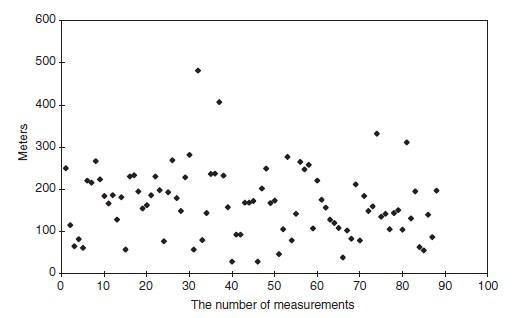axis: (57, 267, 492, 279), (57, 15, 65, 279)
point: (192, 66, 206, 77), (401, 137, 414, 148), (214, 98, 225, 109), (372, 129, 384, 139), (184, 150, 195, 160), (282, 152, 293, 162), (95, 173, 105, 183), (117, 193, 127, 203), (291, 209, 301, 219), (398, 225, 408, 235), (432, 186, 442, 196), (168, 155, 178, 165), (410, 188, 421, 197), (132, 188, 144, 196), (62, 163, 71, 173), (65, 220, 74, 230), (74, 235, 84, 244), (70, 242, 79, 252), (112, 215, 122, 224), (159, 237, 169, 246), (202, 208, 211, 218), (224, 203, 233, 213), (317, 195, 327, 204), (345, 234, 355, 243), (338, 254, 348, 263), (423, 211, 433, 220), (91, 157, 100, 166), (104, 199, 113, 208), (151, 172, 160, 181), (121, 245, 130, 254), (189, 245, 198, 254), (228, 257, 237, 266), (325, 215, 334, 224), (351, 180, 360, 189), (381, 209, 390, 218), (220, 171, 229, 180), (181, 173, 190, 182), (99, 193, 109, 201), (110, 190, 118, 200), (271, 195, 279, 205), (343, 225, 351, 235), (355, 237, 365, 245), (428, 232, 436, 242), (295, 158, 305, 166), (78, 245, 89, 252), (143, 201, 152, 209), (164, 187, 172, 196), (176, 207, 185, 215), (254, 257, 262, 266), (258, 184, 266, 193), (279, 225, 287, 234), (288, 236, 296, 245), (334, 224, 343, 232), (376, 213, 385, 221), (395, 205, 404, 213), (386, 225, 394, 234), (415, 242, 423, 251), (262, 165, 271, 173), (305, 160, 313, 169), (300, 166, 308, 175), (313, 176, 322, 184), (87, 179, 97, 186), (363, 208, 373, 215), (83, 177, 91, 185), (198, 236, 206, 244), (232, 231, 240, 239), (245, 199, 253, 207), (266, 199, 274, 207), (275, 250, 283, 258), (309, 225, 317, 233), (321, 204, 329, 212), (360, 192, 368, 200), (407, 215, 415, 223), (126, 172, 133, 181), (173, 194, 182, 201), (330, 220, 339, 227), (368, 203, 377, 210), (207, 169, 214, 178), (212, 169, 219, 178), (131, 172, 139, 179), (157, 186, 164, 194), (147, 192, 155, 199), (238, 230, 245, 238), (240, 198, 247, 206), (251, 197, 258, 205), (390, 209, 397, 217), (420, 248, 428, 255), (139, 206, 148, 212)
